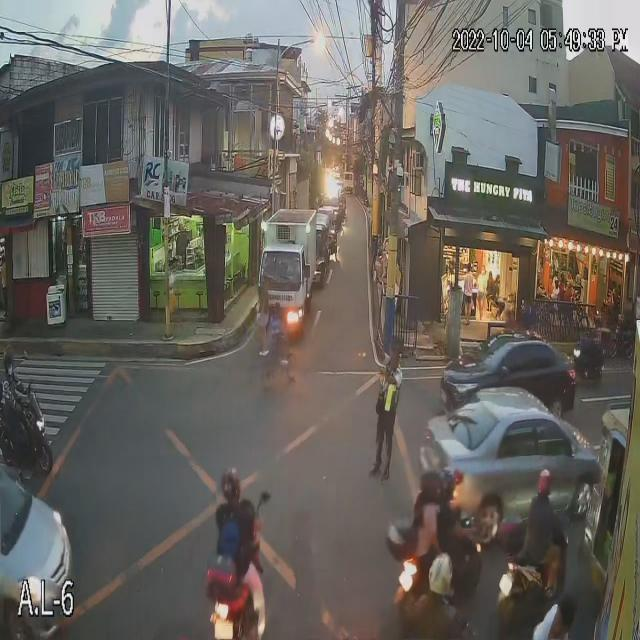helmet: (427, 553, 454, 595), (218, 465, 246, 503), (436, 464, 463, 495), (0, 346, 19, 379), (417, 472, 439, 499), (536, 464, 552, 496)
motorcycle: (398, 529, 484, 618), (210, 508, 269, 633), (506, 525, 579, 607), (0, 395, 55, 473), (572, 348, 604, 383)
rider: (210, 458, 260, 570), (413, 545, 456, 631), (522, 460, 557, 558), (406, 469, 440, 545), (0, 334, 26, 419), (436, 461, 463, 531), (580, 320, 597, 363)
